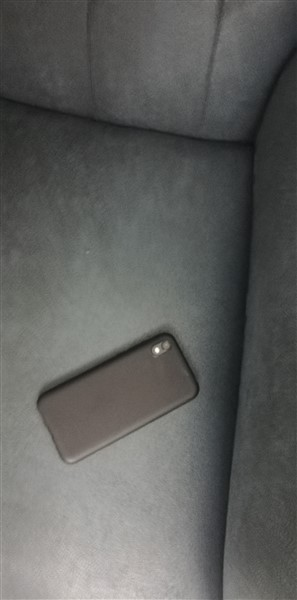telefon: (35, 324, 205, 468)
